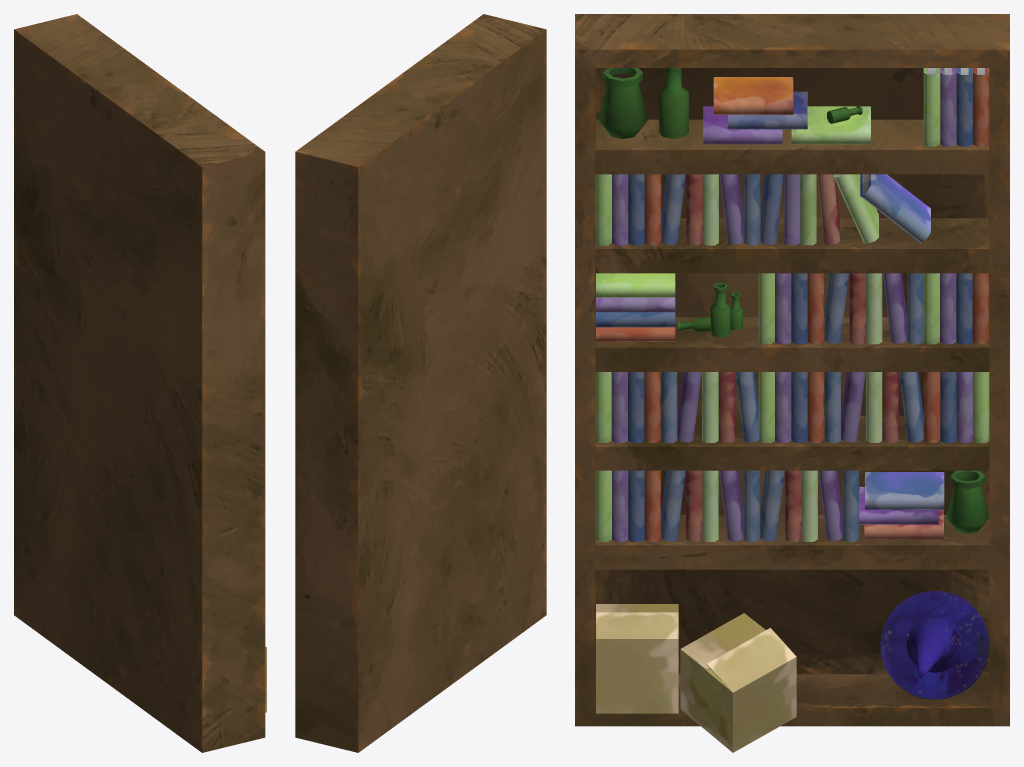
File: bookcase.glb
3 renders of one model, left to right at view 1: azimuth 30°, elevation 25°; view 2: azimuth 150°, elevation 25°; view 3: azimuth 270°, elevation 25°, orthographic. The views are drawn at different scales.
Parts seen in each view (by area): view 1: Bookcase_1; view 2: Bookcase_1; view 3: Bookcase_1, Bookcase_2, Box.002, Headdress.001, Books2, Box.001, Books5, Books13, Books8, Books15, Books3, Books18 (+15 smaller).
Part boxes in pixels (x1,y1,x2,y2): Bookcase_1: (14, 14, 265, 752); Bookcase_1: (295, 14, 546, 752); Bookcase_1: (575, 14, 1009, 726); Bookcase_2: (595, 119, 989, 569); Box.002: (680, 613, 796, 752); Headdress.001: (880, 591, 989, 699); Books2: (760, 174, 930, 245); Box.001: (596, 604, 678, 713); Books5: (703, 77, 870, 144); Books13: (760, 470, 859, 541); Books8: (824, 273, 923, 344); Books15: (661, 470, 759, 541); Books3: (661, 174, 760, 245); Books18: (824, 372, 923, 442).
Bounding box in the file's own units: 0.434 × 1.87 × 1.09.
1 material, 1 textured.
